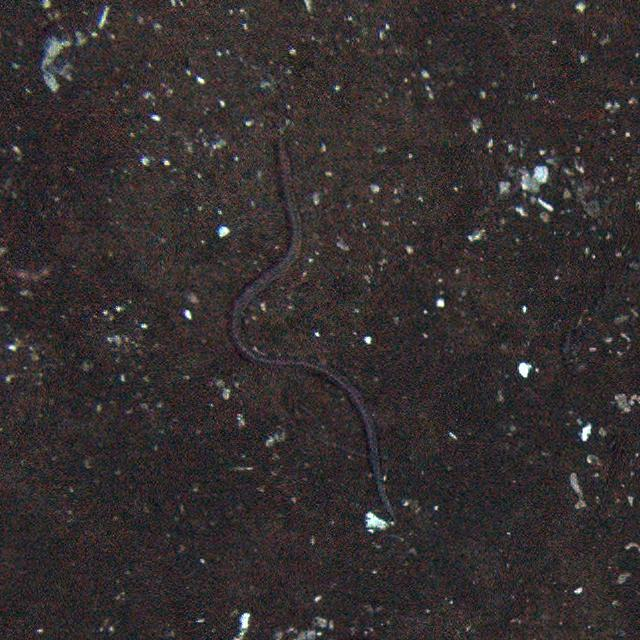eel: (228, 139, 403, 522)
